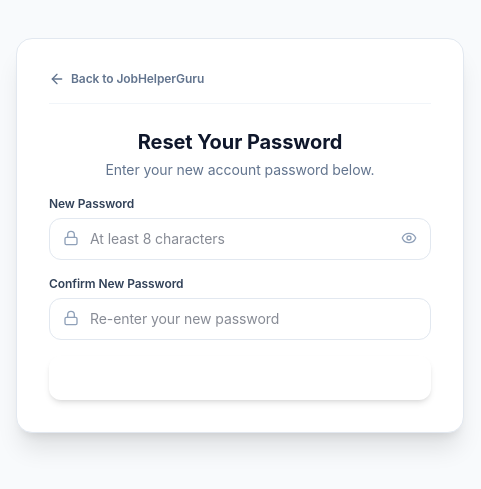
AuthLinkPage Component › renders password reset form and submits successfully
This screenshot has width=481, height=489.
Expected: the heading "Reset Your Password" is shown, [138,130,342,154]
Type "NewSecurePassword123!" into the password field labelled "New Password" at (240, 238), box [49,218,431,260]
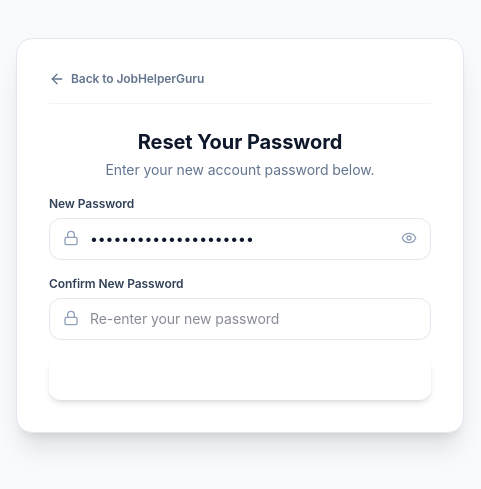
Type "NewSecurePassword123!" into the password field labelled "Confirm New Password" at (240, 318), box [49,298,431,340]
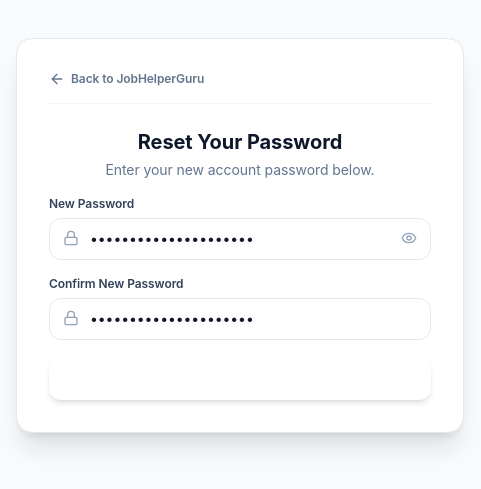
Click the button "Set New Password" at (240, 378), box [49,356,431,400]
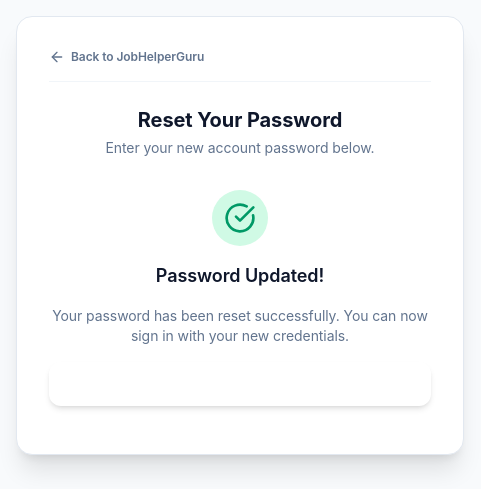
Expected: the heading "Password Updated!" is shown, [156,264,324,286]
